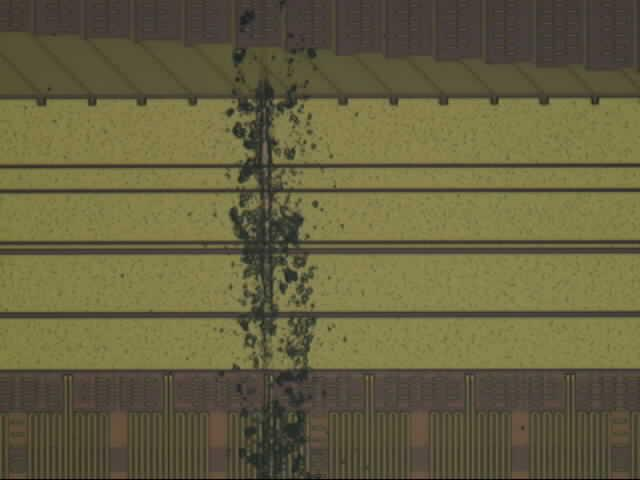SCRATCH: (222, 3, 341, 480)
